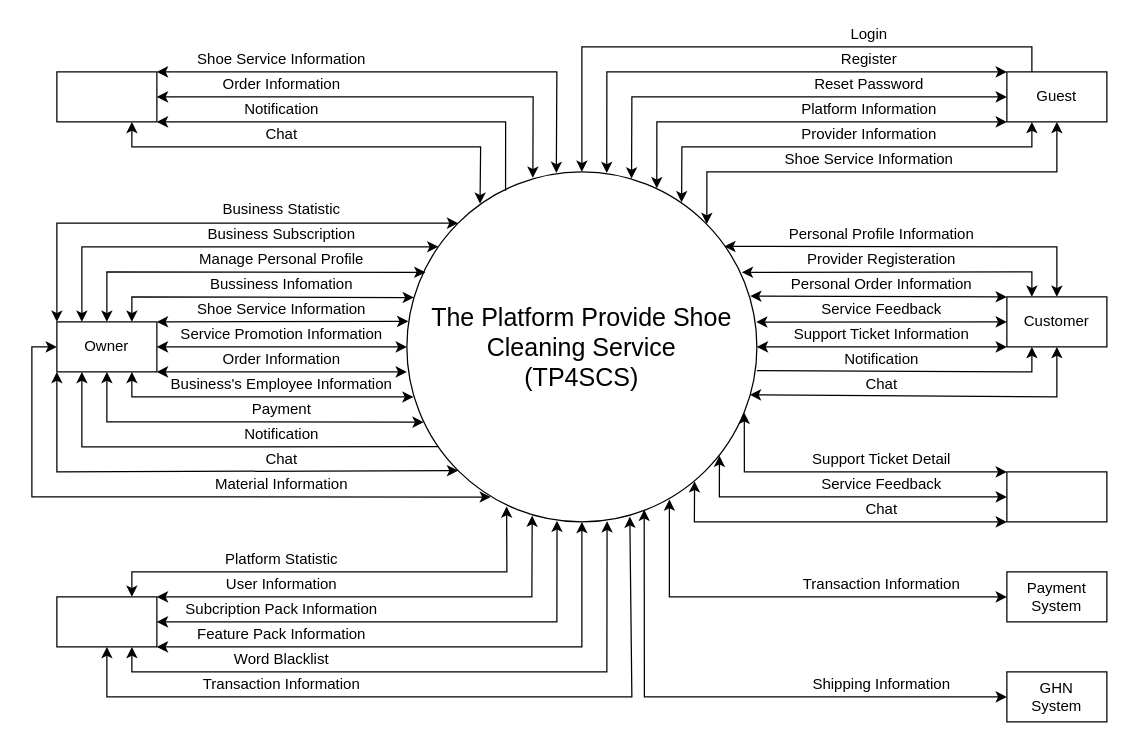
Some shapes in this 1129 by 744 pixel diagram are drawn without their labels. Here are the shapes that lost their labels. From the top down, the box of each, then its label:
(56, 71, 157, 122): Employee
(1006, 471, 1107, 522): Moderator
(56, 596, 157, 647): Admin
